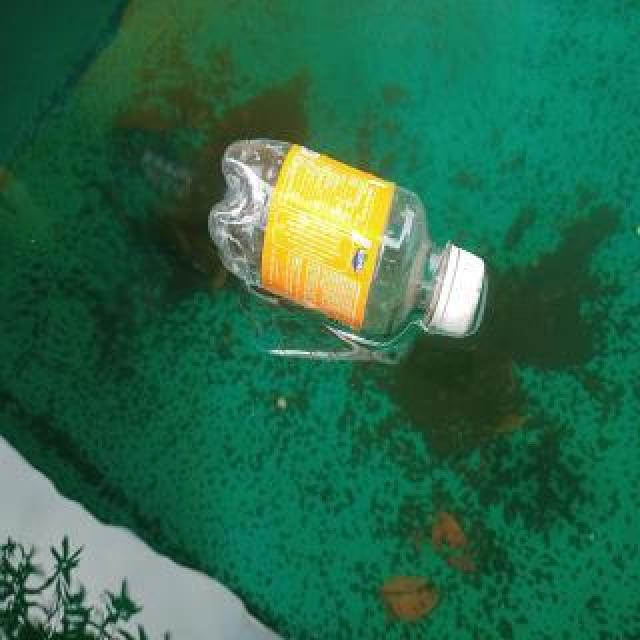bottle: (204, 128, 492, 346)
